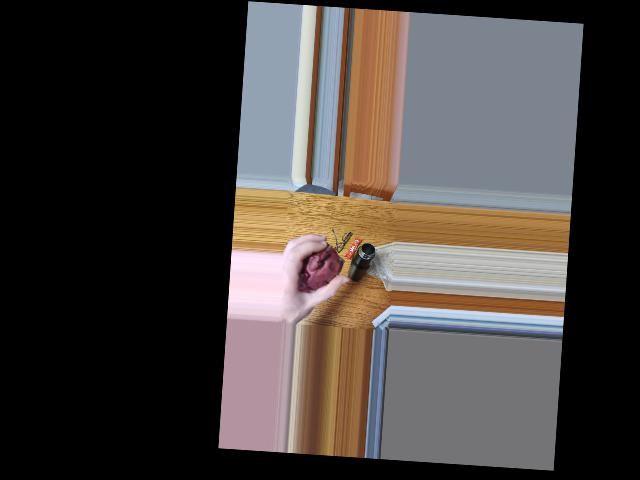onion: (298, 247, 333, 294)
